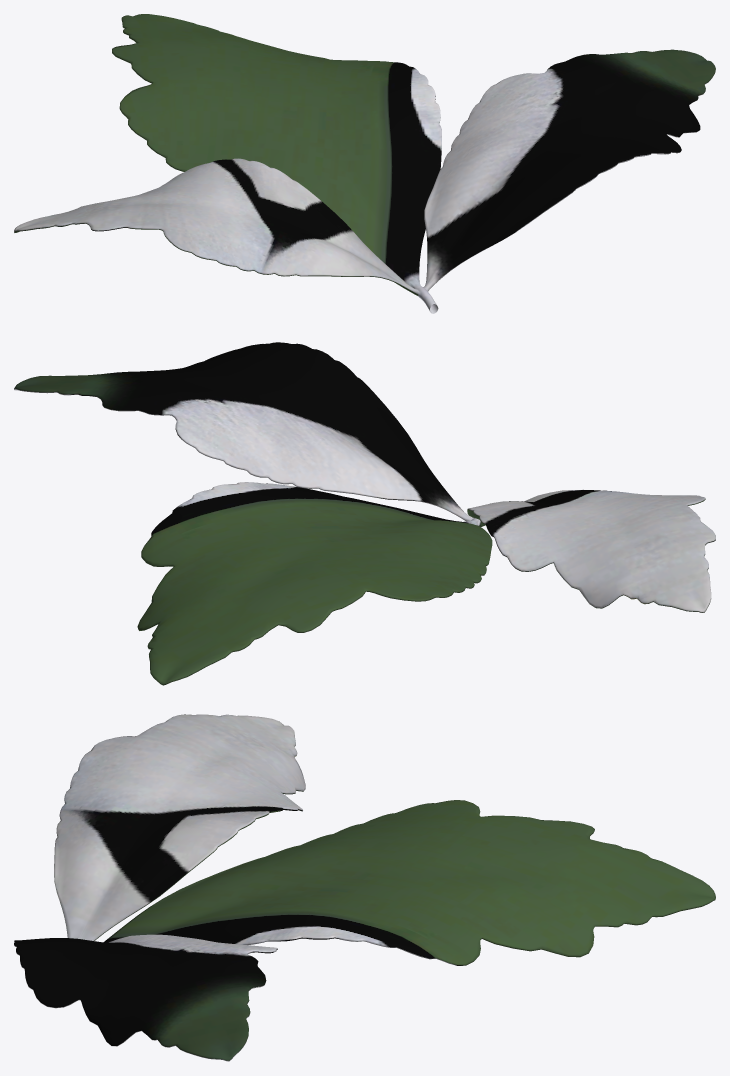
The model's file is leaf.obj.
3 views of the same model, one above another, from view 1: azimuth 30°, elevation 25°; view 2: azimuth 150°, elevation 25°; view 3: azimuth 270°, elevation 25° (orthographic). The views are drawn at different scales.
Visible parts, largest first — view 1: 12973_anemone_flower.001; view 2: 12973_anemone_flower.001; view 3: 12973_anemone_flower.001.
Boxes of the visible parts, x1,y1,x2,y2 form: 12973_anemone_flower.001: [14, 14, 715, 313]; 12973_anemone_flower.001: [14, 342, 715, 685]; 12973_anemone_flower.001: [14, 714, 715, 1061].
Bounding box in the file's own units: 13.14 × 2.35 × 10.69.
Materials: 1 (1 with a texture image).
